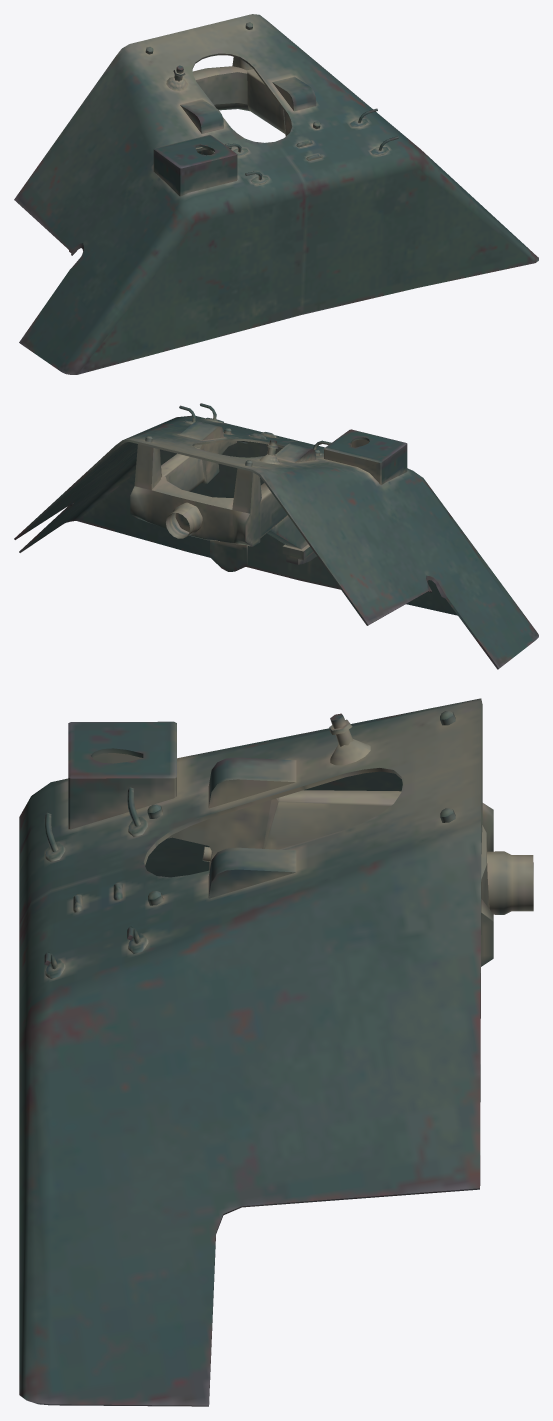
Rendered from Turret_01.glb.
3 renders of one model, top to bottom at view 1: azimuth 30°, elevation 25°; view 2: azimuth 150°, elevation 25°; view 3: azimuth 270°, elevation 25°, orthographic. The views are drawn at different scales.
Parts seen in each view (by area): view 1: set_0_group_0; view 2: set_0_group_0; view 3: set_0_group_0.
Boxes of the visible parts, box(x1,y1,x2,y2) form: set_0_group_0: box(14, 14, 538, 374); set_0_group_0: box(14, 403, 538, 669); set_0_group_0: box(19, 698, 533, 1406).
Bounding box in the file's own units: 1.73 × 0.7137 × 0.8026.
Materials: 1 (1 with a texture image).
